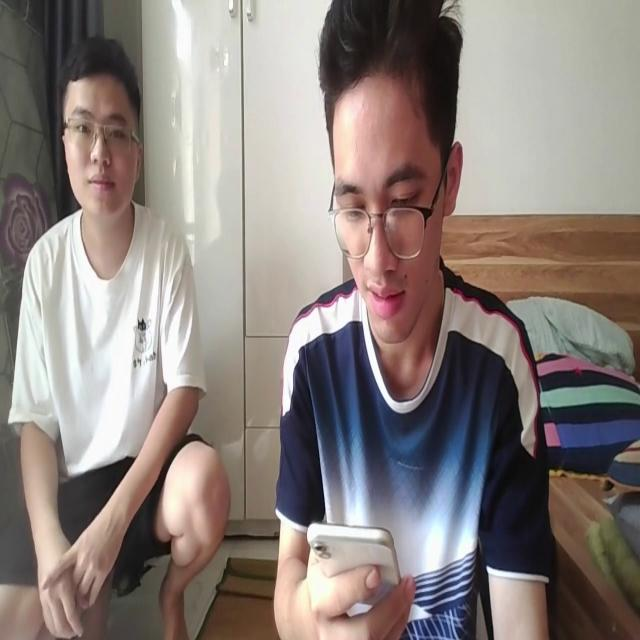extra_person: (3, 32, 232, 640)
phone: (302, 510, 404, 626)
student: (273, 3, 553, 640)
